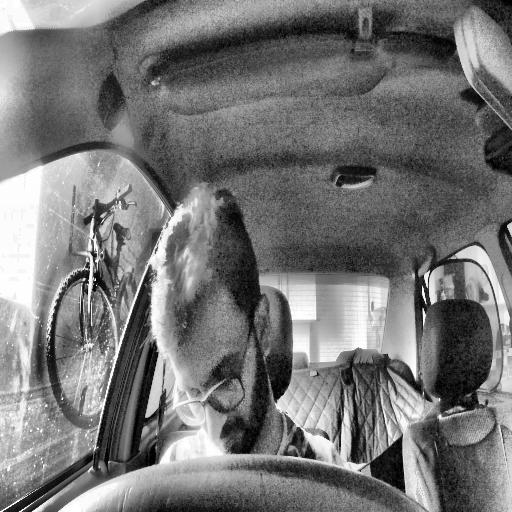drowsy: (149, 179, 274, 462)
